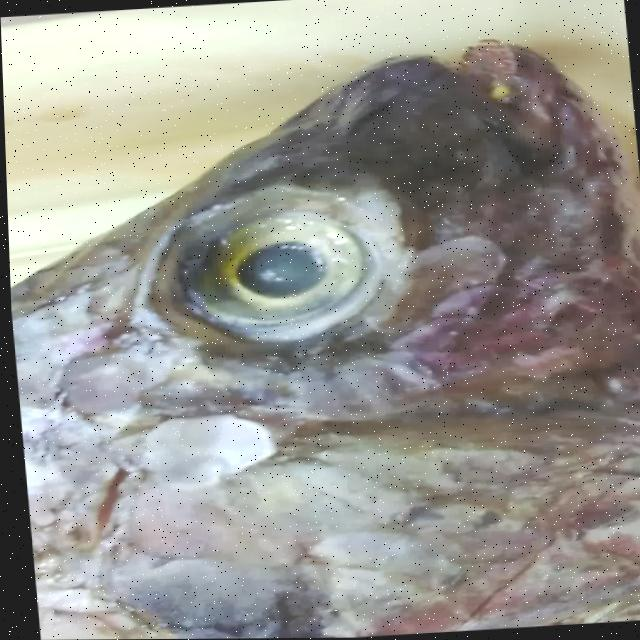Non-Fresh: (112, 142, 434, 397)
